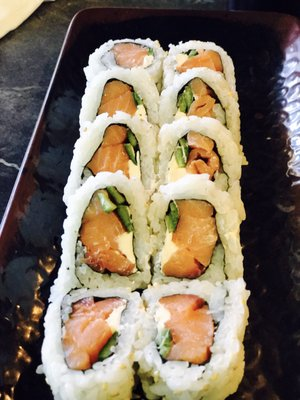soup: (51, 33, 253, 398)
sushi: (0, 6, 299, 358)
